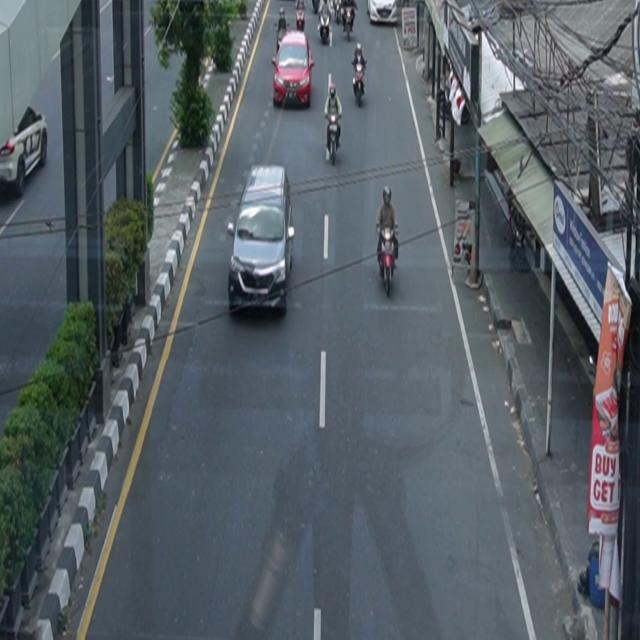car: (228, 165, 295, 316), (1, 106, 49, 197), (272, 30, 315, 109)
